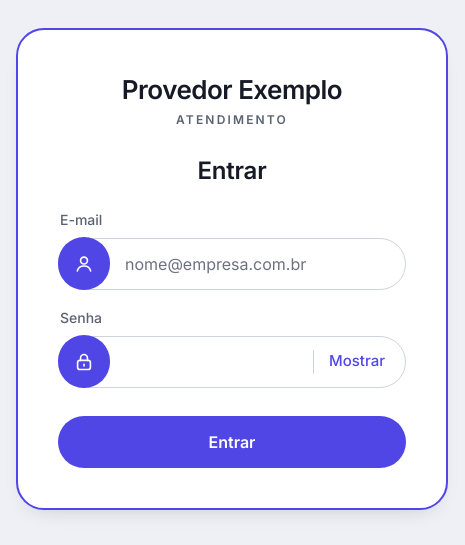
LoginPage: validação própria, ao lado do campo › senha vazia: aviso junto da senha e foco nela
Type "atendente@exemplo.test" into the field labelled "E-mail" at point(265, 264), box [125, 239, 405, 289]
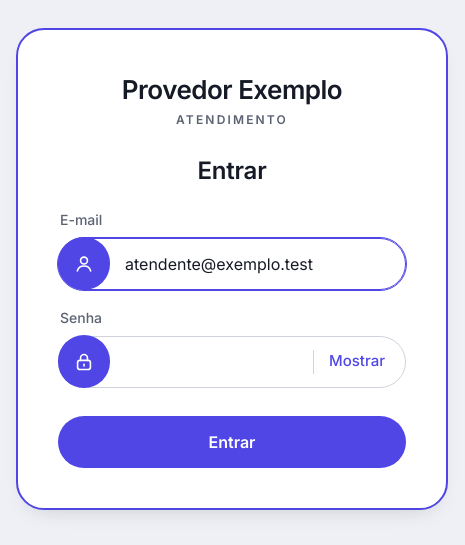
Click the button "Entrar" at point(232, 442), box [58, 416, 406, 468]
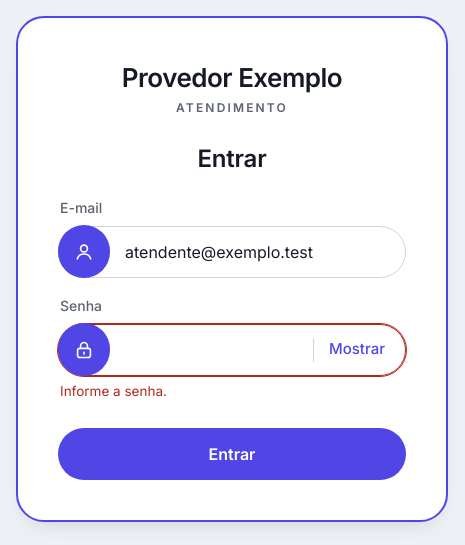
Result: the element showing "Senha Mostrar Informe a senha." is shown at [58, 296, 406, 400]
